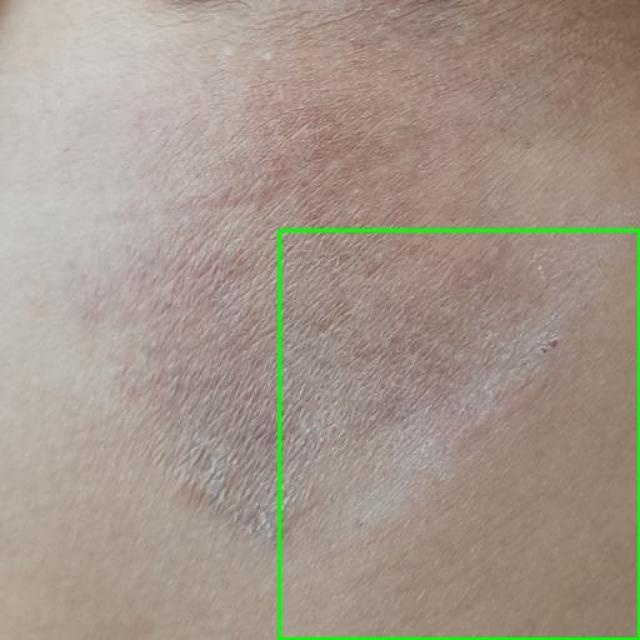Contact Dermatitis: (279, 230, 639, 639)
